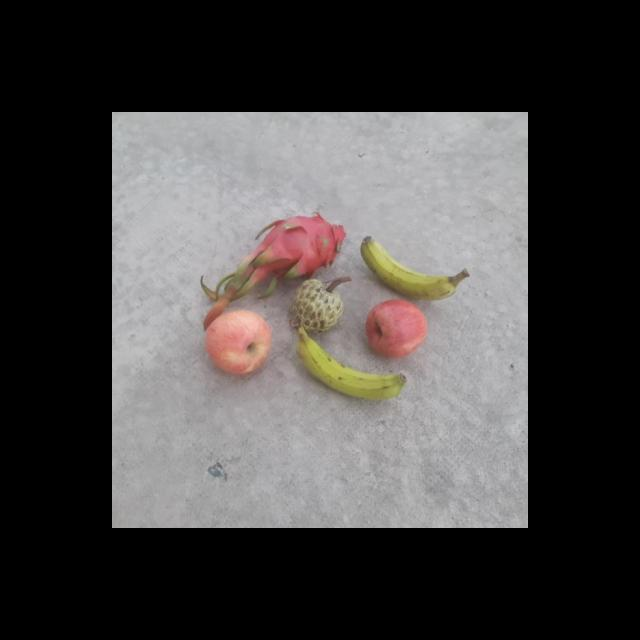Sakya fruit: (286, 280, 346, 332)
apple: (206, 306, 276, 378), (363, 299, 428, 356)
banana: (359, 225, 474, 305), (293, 332, 410, 402)
pitaya: (262, 214, 346, 278)
